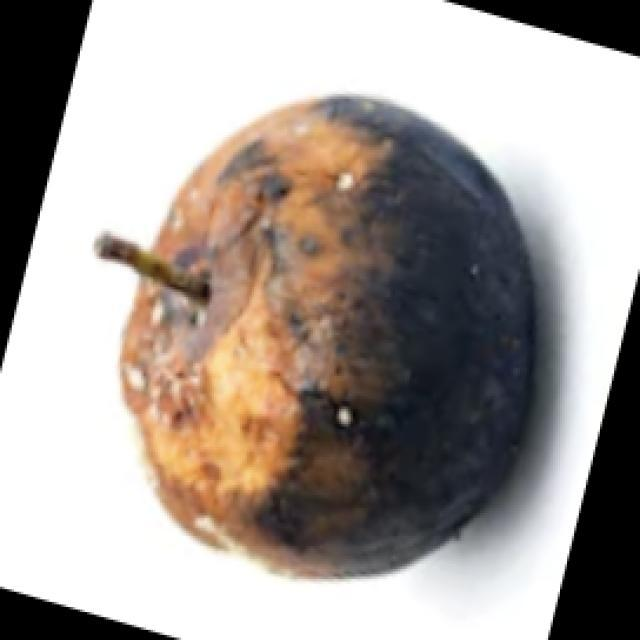Rotten: (114, 105, 564, 590)
